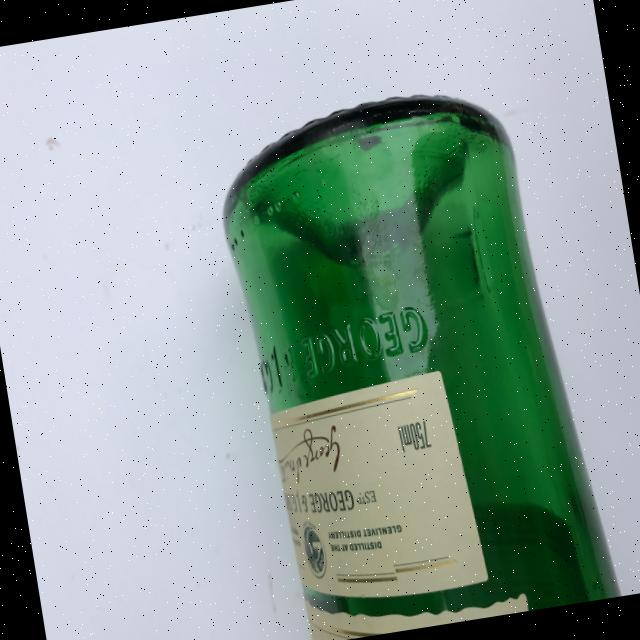glass: (209, 77, 619, 639)
